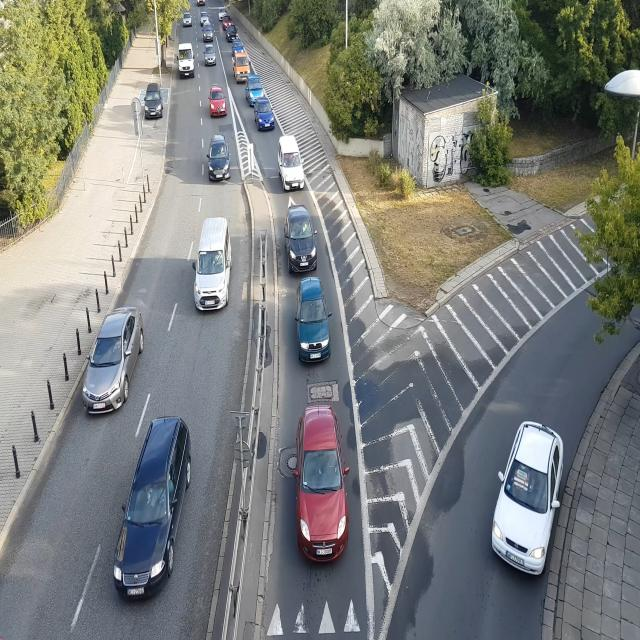car: (112, 416, 194, 617), (491, 422, 565, 574), (296, 396, 348, 560), (82, 310, 146, 418), (195, 218, 232, 313), (294, 282, 332, 364), (285, 203, 317, 274), (277, 137, 307, 190), (209, 135, 232, 185), (244, 71, 267, 108), (143, 88, 165, 120), (178, 44, 197, 78), (210, 86, 229, 116), (257, 112, 276, 131), (231, 33, 245, 58), (197, 10, 212, 30), (203, 46, 217, 66), (180, 7, 192, 29), (234, 66, 248, 82), (226, 24, 238, 41), (217, 5, 227, 22), (201, 28, 214, 41), (221, 15, 231, 30), (197, 0, 206, 9)
